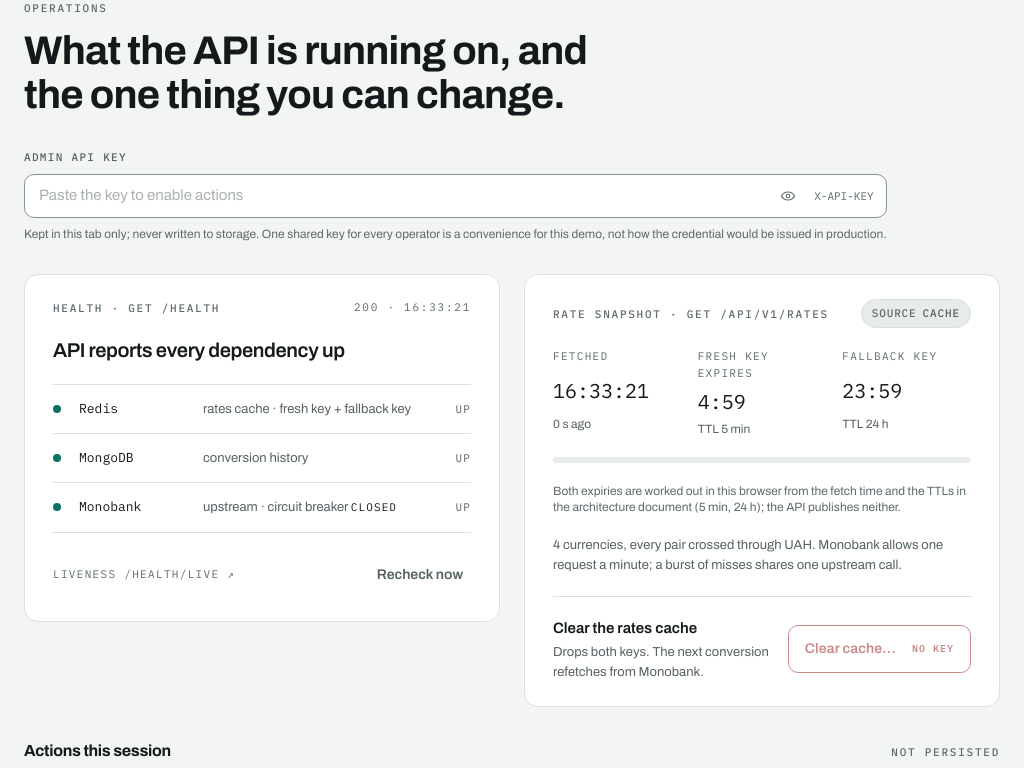
Test: OpsPage clear-cache dialog › answers a 503 by saying the keys are still there
This screenshot has width=1024, height=768.
Type "super-secret-admin-key" into the password field labelled "Admin API key" at point(401, 196), box left=39, top=175, right=762, bottom=217
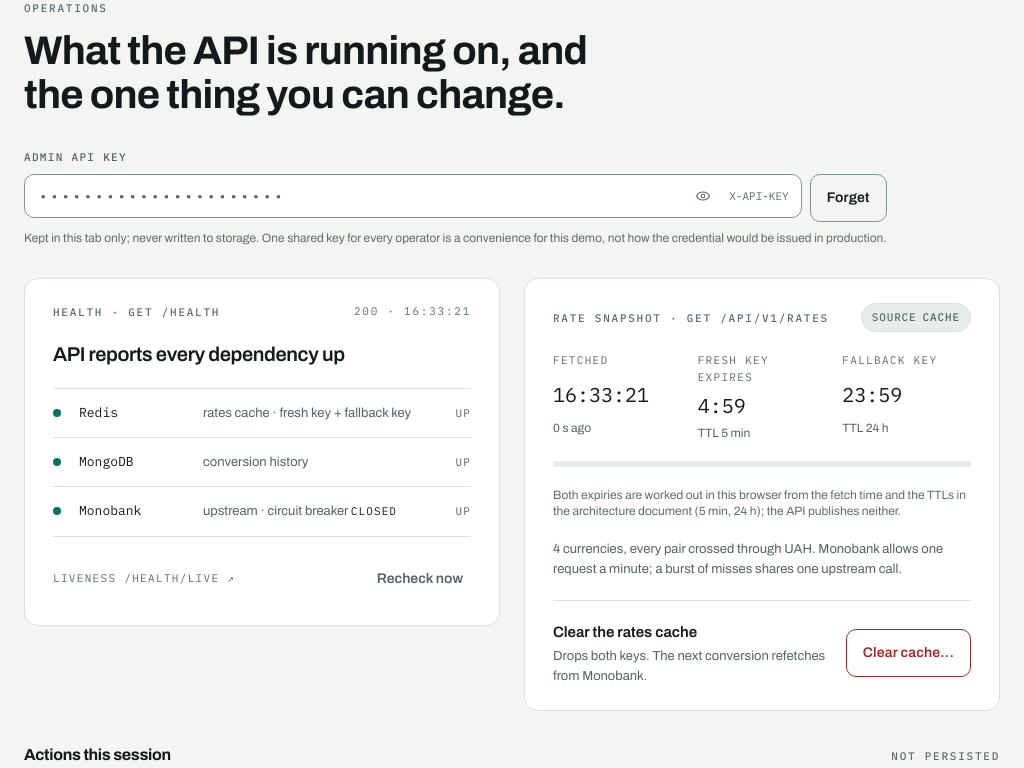
Click the button "Clear cache…" at point(908, 653), box left=846, top=629, right=971, bottom=677
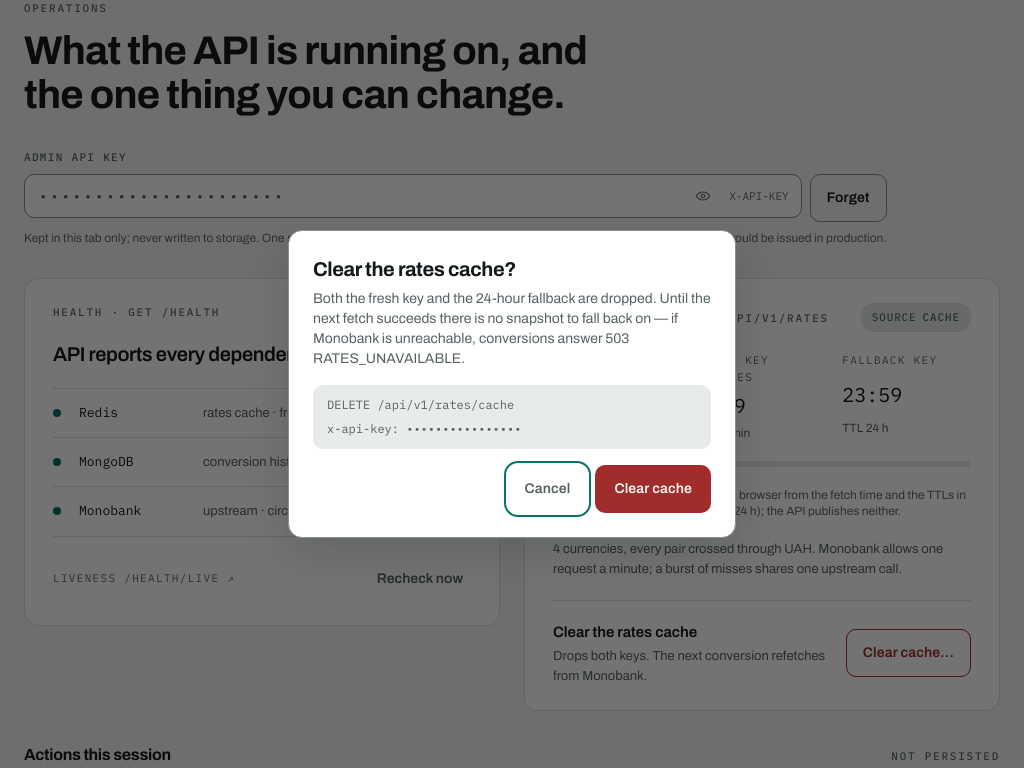
Click the button "Clear cache" at point(653, 489), box left=596, top=465, right=711, bottom=513
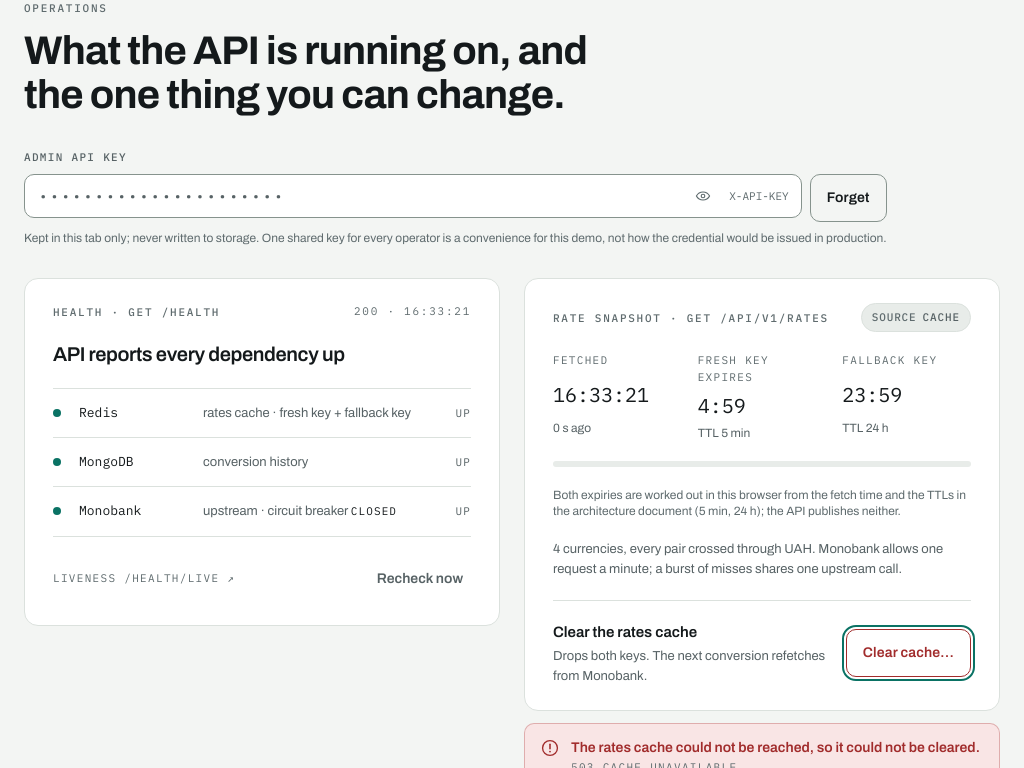
Expected: the text "The rates cache could not be reached, so it could not be cleared." is shown, left=571, top=738, right=980, bottom=758
